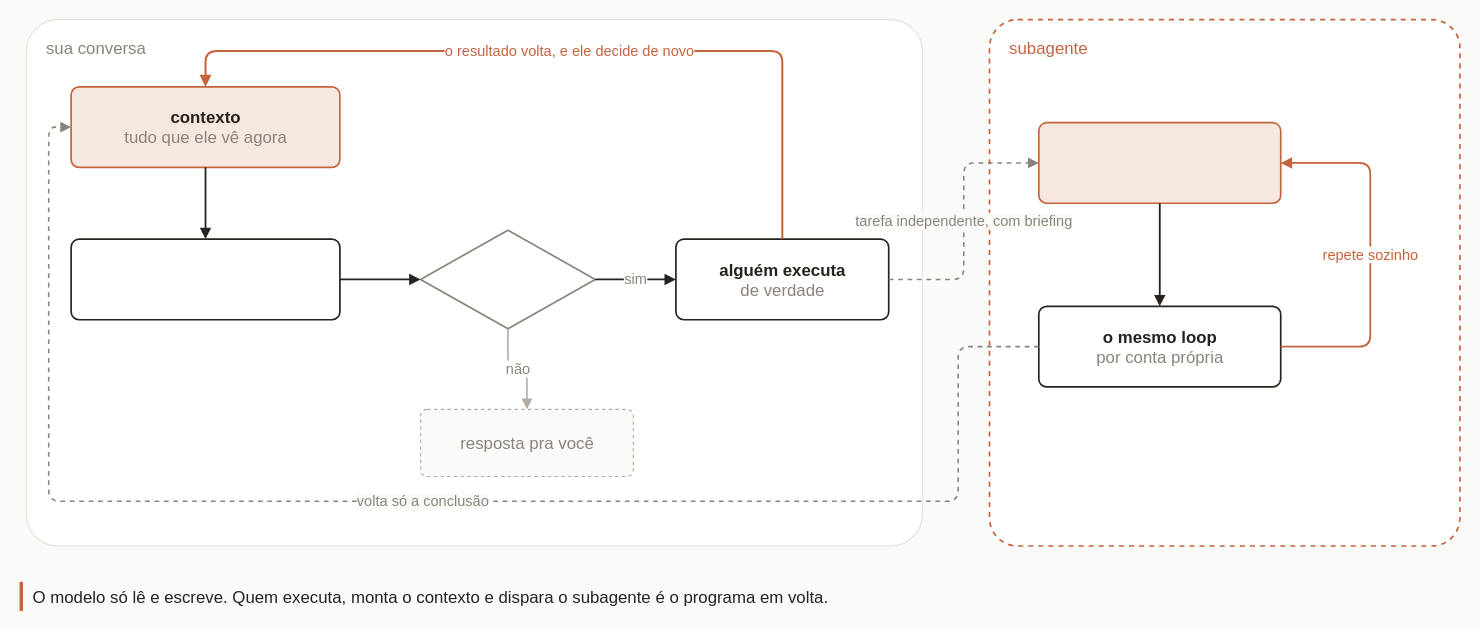
Some shapes in this 1480 by 631 pixel diagram are drawn without their labels. The centre of each missing label's shape, as x and y in pixels:
contexto limpo não viu a sua conversa: point (1159, 162)
modelo prevê o próximo token: point (205, 279)
pediu ferramenta?: point (507, 279)
